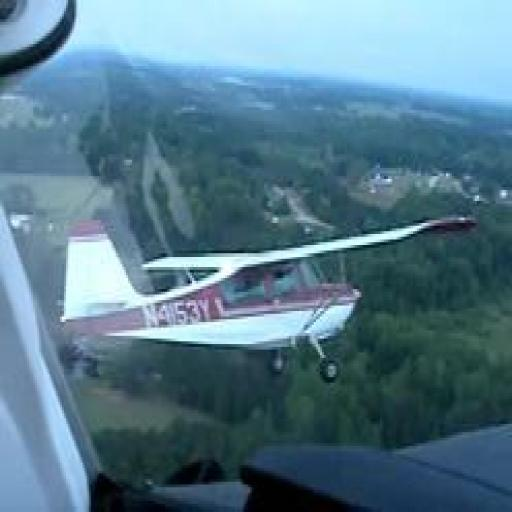aircraft: (56, 212, 479, 385)
